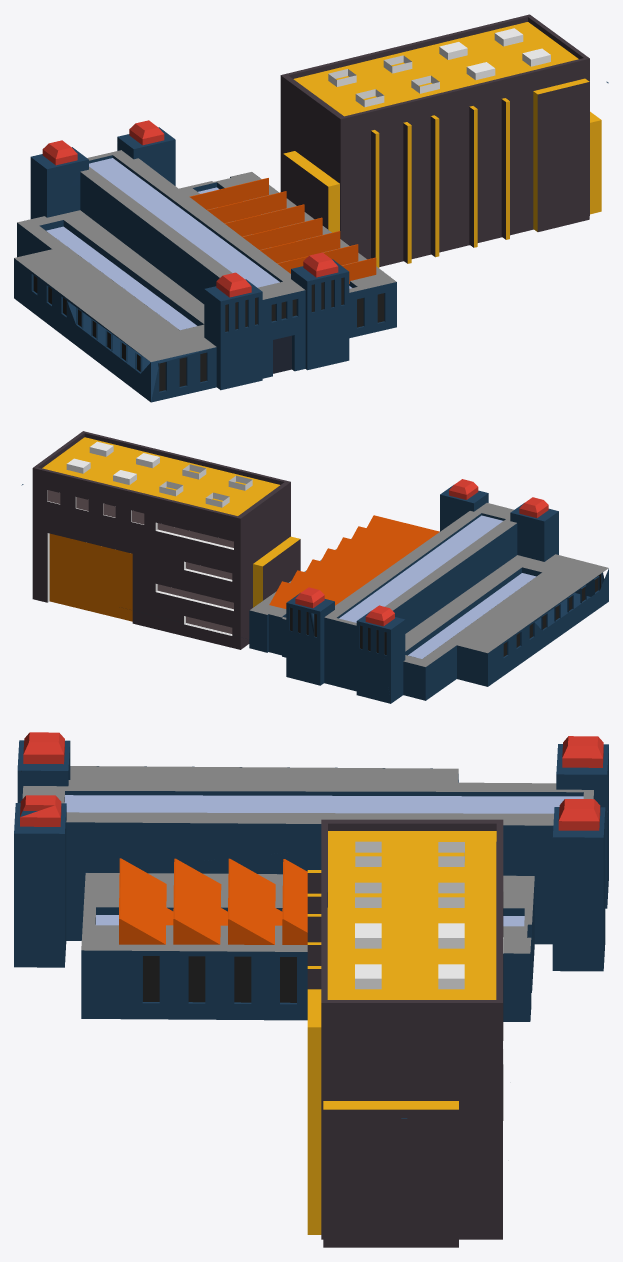
File: manufac.glb
3 renders of one model, top to bottom at view 1: azimuth 30°, elevation 25°; view 2: azimuth 150°, elevation 25°; view 3: azimuth 270°, elevation 25°, orthographic. The views are drawn at different scales.
Parts seen in each view (by area): view 1: Cube.374; view 2: Cube.374; view 3: Cube.374.
Boxes of the visible parts, left/top/right/bottom form: Cube.374: left=14, top=14, right=608, bottom=402; Cube.374: left=21, top=431, right=608, bottom=703; Cube.374: left=14, top=732, right=608, bottom=1247.
Bounding box in the file's own units: 1142 × 300 × 674.
